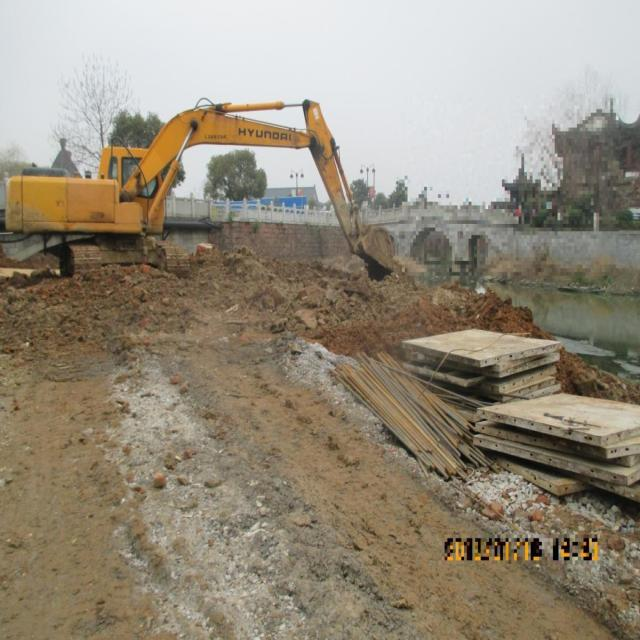excavator: (0, 82, 415, 302)
